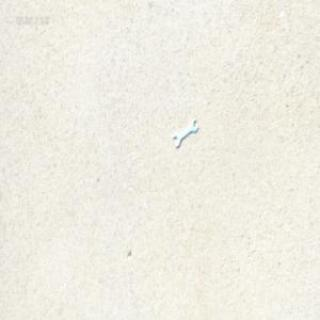Wrenchtrack_idkeyframe: (172, 117, 196, 147)
